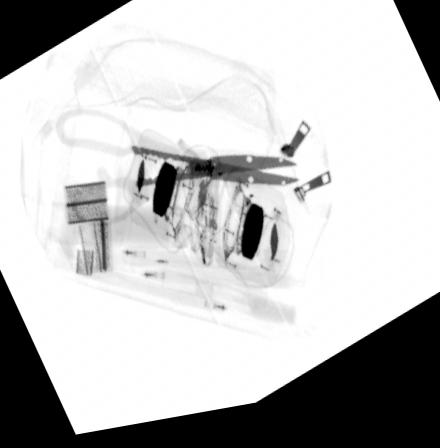Scissors: (54, 103, 298, 234)
